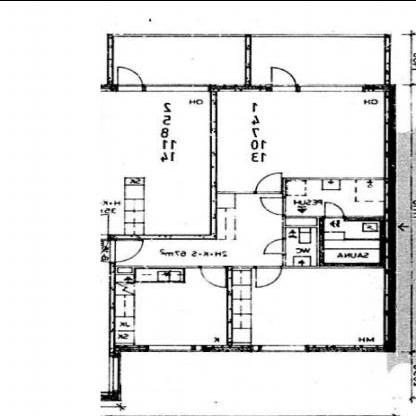door: (105, 234, 147, 264), (266, 65, 302, 93), (113, 66, 148, 94), (198, 260, 227, 290), (253, 263, 283, 291), (252, 173, 285, 195), (257, 194, 287, 218), (321, 198, 346, 220), (261, 236, 289, 255)
window: (143, 339, 207, 356), (248, 339, 308, 355)
